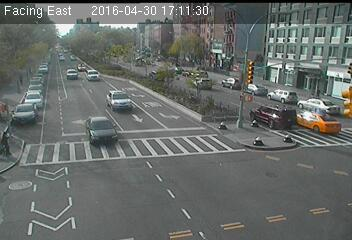neg: (105, 88, 122, 110), (61, 36, 78, 58), (205, 69, 219, 88), (55, 71, 63, 82)
pos: (15, 72, 27, 88)
